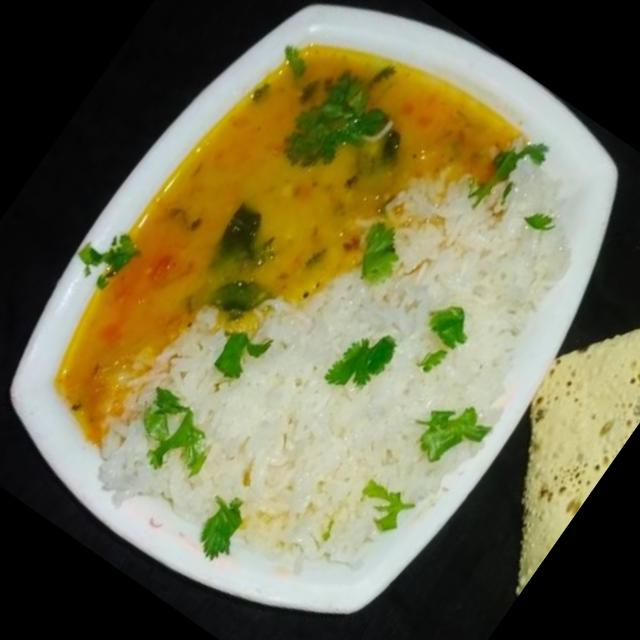dal: (54, 44, 529, 443)
rice: (90, 156, 582, 559)
